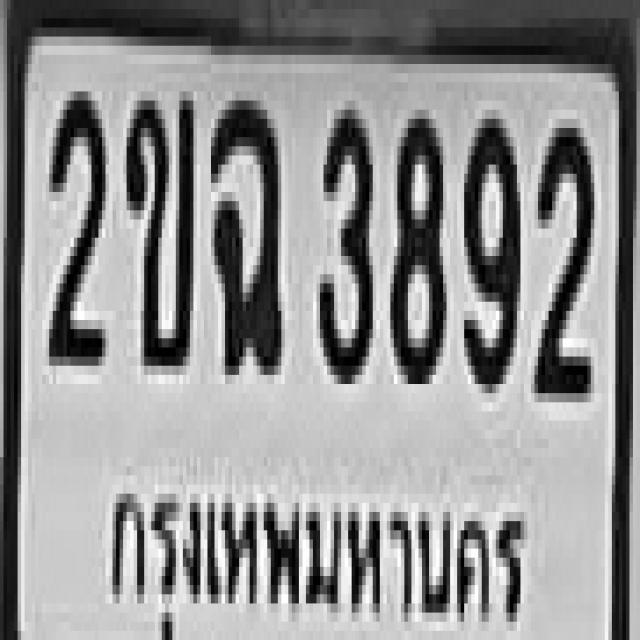11KhorKhai: (123, 87, 190, 361)
18ChorChing: (207, 91, 278, 366)
2: (531, 119, 591, 393), (46, 82, 102, 357)
3: (317, 100, 369, 375)
8: (387, 105, 439, 380)
9: (461, 110, 517, 384)
Bangkok: (92, 439, 535, 640)
